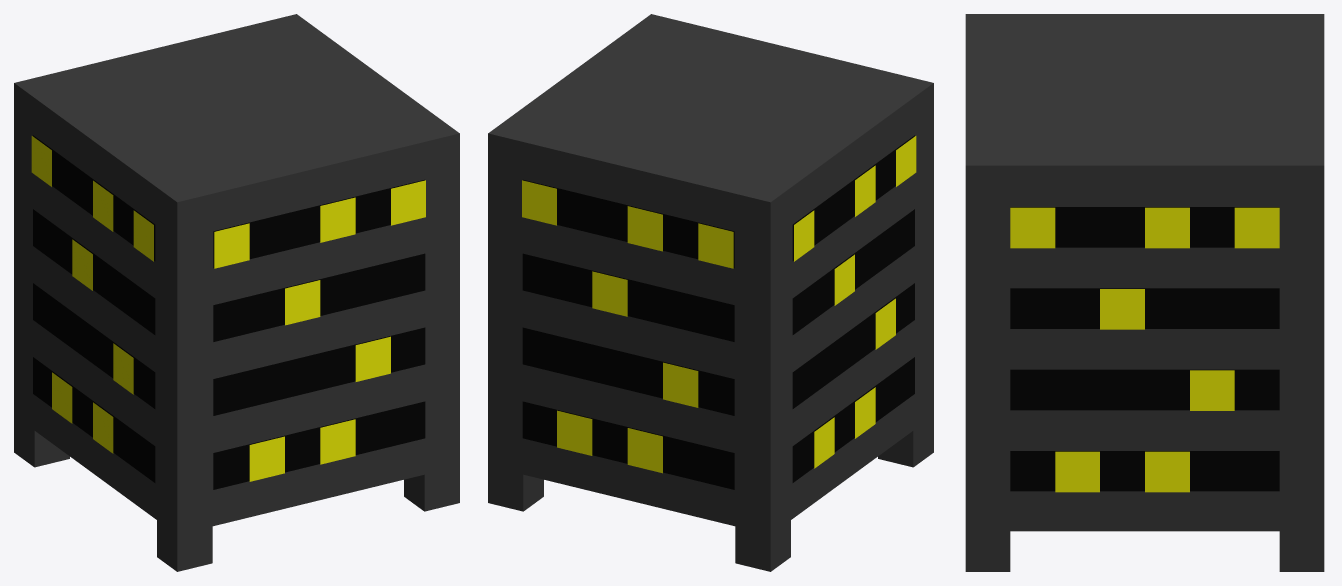
File: Server Rack.fbx
3 views of the same model, side by side, from view 1: azimuth 30°, elevation 25°; view 2: azimuth 150°, elevation 25°; view 3: azimuth 270°, elevation 25° (orthographic). The views are drawn at different scales.
Visible parts, largest first — view 1: Cube; view 2: Cube; view 3: Cube.
Boxes of the visible parts, x1,y1,x2,y2 form: Cube: [14, 14, 459, 571]; Cube: [488, 14, 933, 571]; Cube: [965, 14, 1324, 571].
Bounding box in the file's own units: 2.04 × 2.5 × 2.04.
